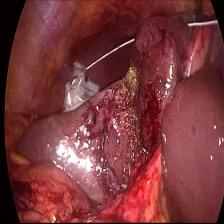Specimen Bag: (57, 33, 134, 114)
